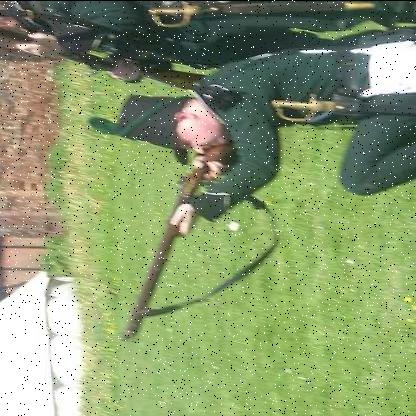rifle: (101, 127, 276, 346), (0, 12, 208, 98)
